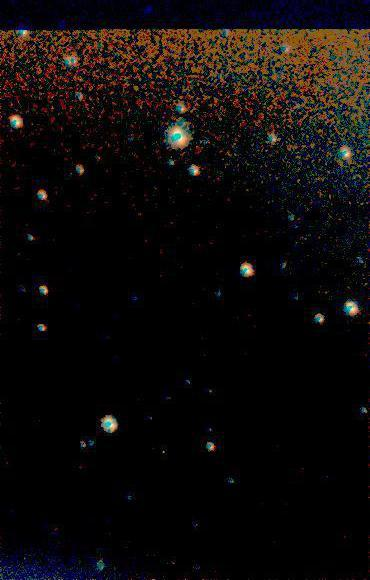star: (148, 438, 178, 468)
